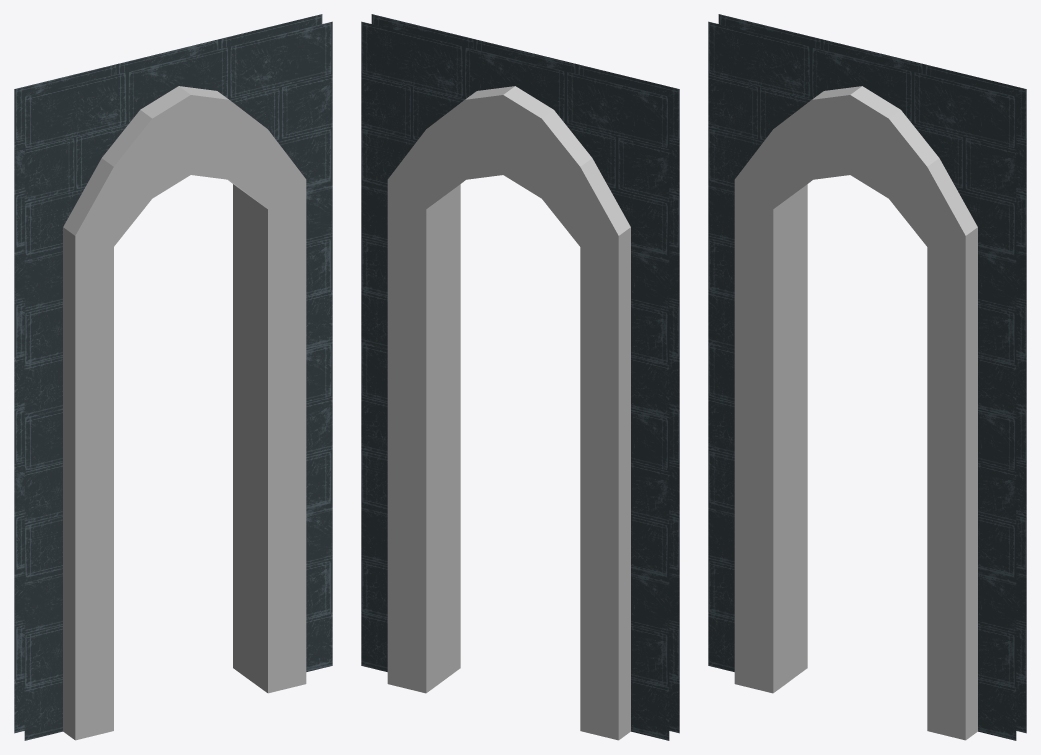
Rendered from ArchHalf.fbx.
3 views of the same model, side by side, from view 1: azimuth 30°, elevation 25°; view 2: azimuth 150°, elevation 25°; view 3: azimuth 330°, elevation 25° (orthographic).
Visible parts, largest first — view 1: Plane.002; view 2: Plane.002; view 3: Plane.002.
Boxes of the visible parts, x1,y1,x2,y2 form: Plane.002: (14,14,332,740); Plane.002: (361,14,679,740); Plane.002: (708,14,1026,740).
Bounding box in the file's own units: 200 × 400 × 38.96.
